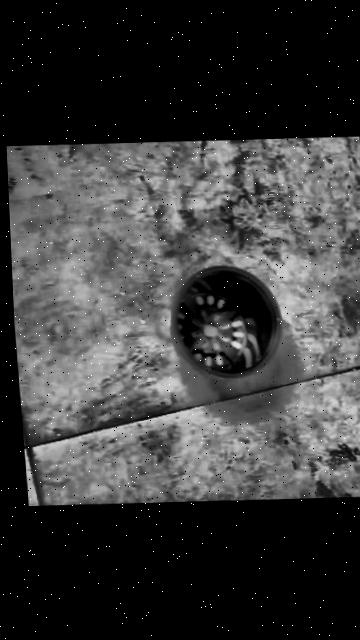pot: (166, 265, 283, 380)
